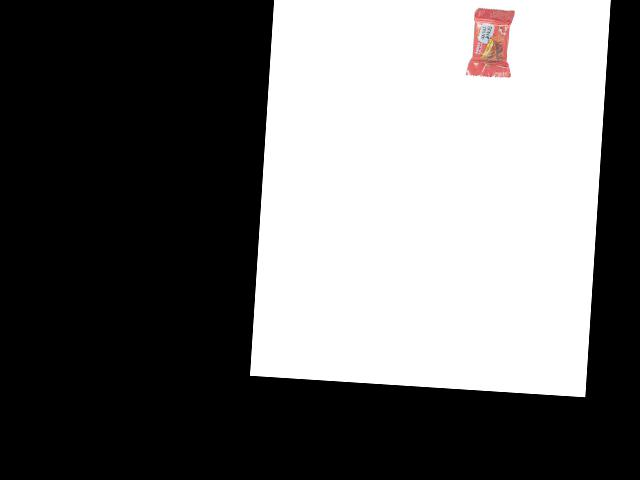chocolate: (461, 1, 514, 78)
